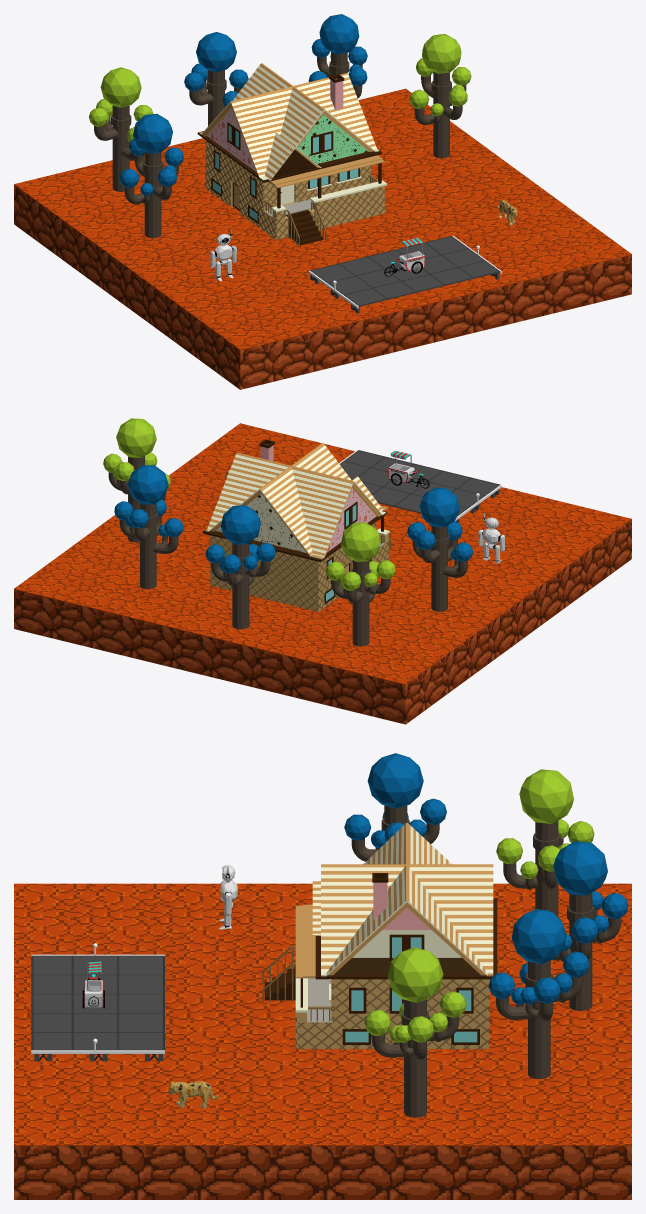
3 views of the same model, one above another, from view 1: azimuth 30°, elevation 25°; view 2: azimuth 150°, elevation 25°; view 3: azimuth 270°, elevation 25° (orthographic). The views are drawn at different scales.
Visible parts, largest first — view 1: Cube.001, Cube.1102, OBJRANDOM_PLATZEEBOT, VEHICLES_SNOWBAL_BIKE; view 2: Cube.001, Cube.1102, OBJRANDOM_PLATZEEBOT, VEHICLES_SNOWBAL_BIKE; view 3: Cube.001, Cube.1102, VEHICLES_SNOWBAL_BIKE, ANIMAL_JAGUAR, OBJRANDOM_PLATZEEBOT.
Part boxes in pixels (left/top/right/bottom): Cube.001: left=14, top=14, right=631, bottom=389; Cube.1102: left=197, top=63, right=387, bottom=246; OBJRANDOM_PLATZEEBOT: left=210, top=229, right=236, bottom=281; VEHICLES_SNOWBAL_BIKE: left=384, top=237, right=425, bottom=276; Cube.001: left=14, top=418, right=631, bottom=724; Cube.1102: left=202, top=439, right=390, bottom=611; OBJRANDOM_PLATZEEBOT: left=478, top=513, right=504, bottom=563; VEHICLES_SNOWBAL_BIKE: left=388, top=450, right=429, bottom=488; Cube.001: left=14, top=753, right=631, bottom=1199; Cube.1102: left=262, top=823, right=497, bottom=1049; VEHICLES_SNOWBAL_BIKE: left=82, top=961, right=105, bottom=1008; ANIMAL_JAGUAR: left=168, top=1081, right=219, bottom=1108; OBJRANDOM_PLATZEEBOT: left=218, top=865, right=237, bottom=929.
Bounding box in the file's own units: 4000 × 1667 × 4000.
Materials: 32 (5 with a texture image).
